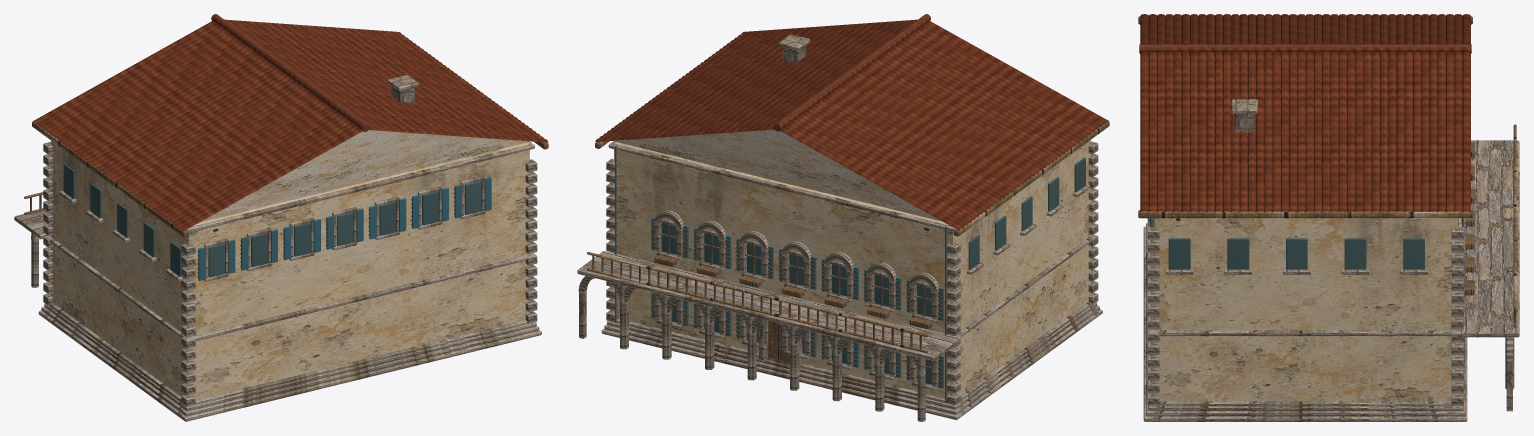
The model's file is building_governor.glb.
The picture shows the model from 3 angles, left to right: view 1: azimuth 30°, elevation 25°; view 2: azimuth 150°, elevation 25°; view 3: azimuth 270°, elevation 25°; orthographic projection. The views are drawn at different scales.
Parts seen in each view (by area): view 1: stucco_volume, individual_barrel_roof_tiles, stepped_stone_plinth, window_recess, shutter, carved_double_door; view 2: stucco_volume, individual_barrel_roof_tiles, stepped_stone_plinth, carved_double_door, window_recess, shutter, shutter_louvre, mullion, rainwater_downpipe; view 3: individual_barrel_roof_tiles, stucco_volume, stepped_stone_plinth, carved_double_door, window_recess.
Part boxes in pixels (<box>): stucco_volume: <box>51,130,529,399</box>; individual_barrel_roof_tiles: <box>32,14,548,231</box>; stepped_stone_plinth: <box>14,75,541,421</box>; window_recess: <box>63,164,481,277</box>; shutter: <box>198,177,491,280</box>; carved_double_door: <box>24,121,548,237</box>; stucco_volume: <box>614,129,1090,398</box>; individual_barrel_roof_tiles: <box>595,14,1108,230</box>; stepped_stone_plinth: <box>577,34,1102,421</box>; carved_double_door: <box>587,121,1109,362</box>; window_recess: <box>661,157,1085,384</box>; shutter: <box>651,217,943,388</box>; shutter_louvre: <box>651,221,942,386</box>; mullion: <box>660,224,931,368</box>; rainwater_downpipe: <box>615,145,947,403</box>; individual_barrel_roof_tiles: <box>1139,14,1471,212</box>; stucco_volume: <box>1153,218,1457,401</box>; stepped_stone_plinth: <box>1143,99,1519,421</box>; carved_double_door: <box>1138,16,1516,327</box>; window_recess: <box>1168,218,1458,269</box>.
Bounding box in the file's own units: 21.43 × 14.31 × 17.55.
Materials: 9 (5 with a texture image).
